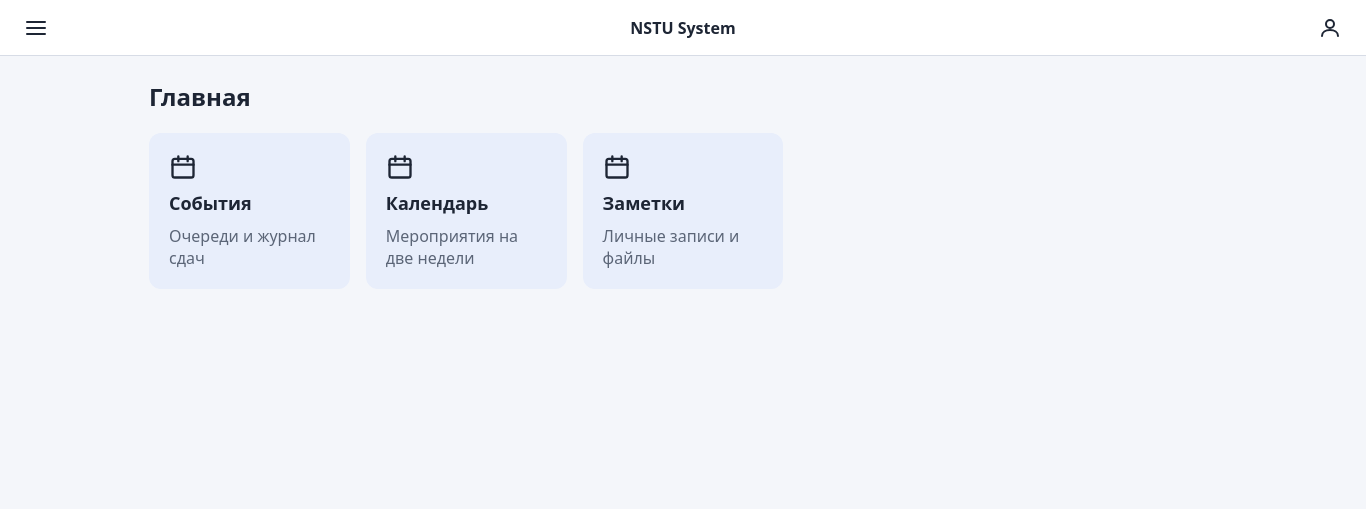
Test: главная страница как реестр модулей › переход по плитке «Календарь» открывает календарь, а не список событий
Click the link with test id "module-tile" that starts with "Календарь": (466, 211) [366, 133, 567, 289]
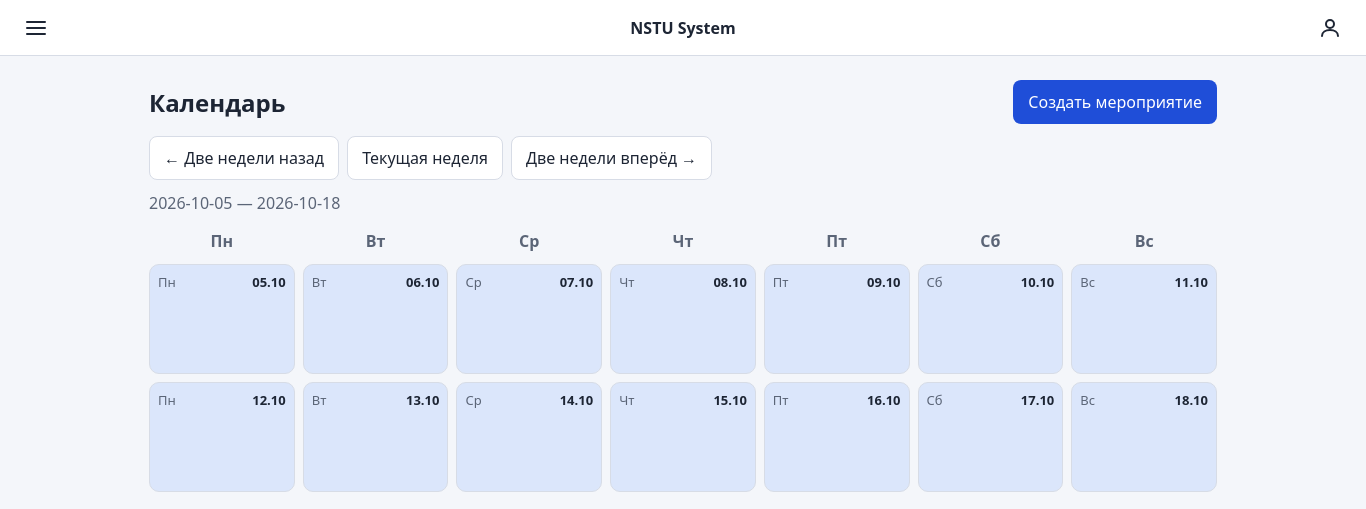
Check: the heading "События" is not shown
Check: the heading "Календарь" is shown, box [149, 86, 286, 118]
